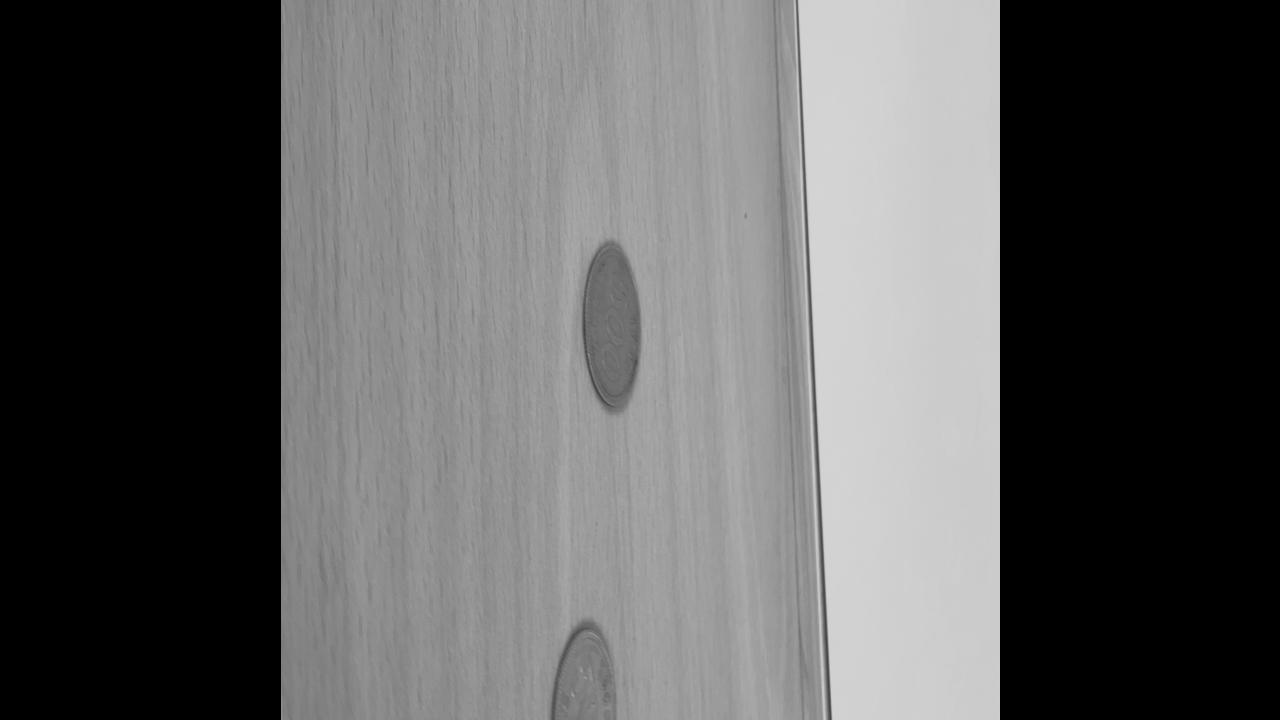coin: (579, 238, 641, 414), (549, 620, 617, 720)
